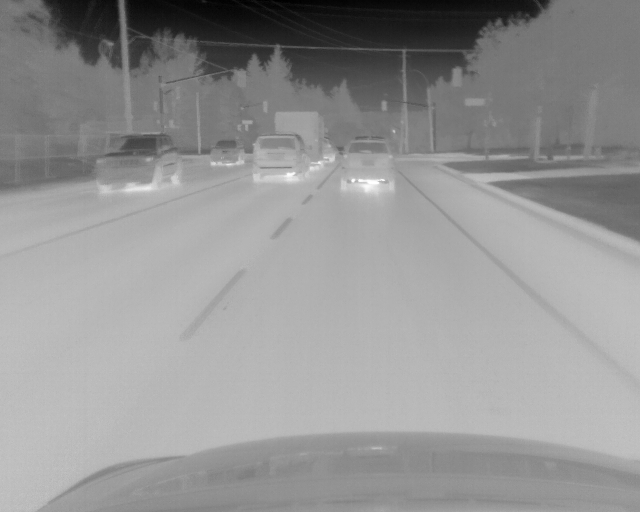car: (93, 132, 183, 194), (251, 111, 326, 184), (340, 135, 396, 194), (207, 137, 244, 167), (322, 138, 339, 161)
